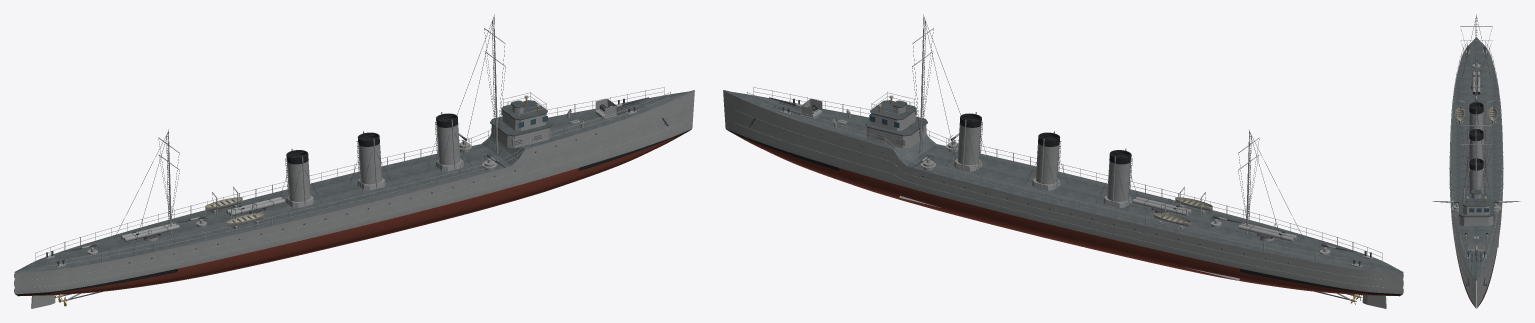
File: arabe.glb
3 views of the same model, side by side, from view 1: azimuth 30°, elevation 25°; view 2: azimuth 150°, elevation 25°; view 3: azimuth 270°, elevation 25° (orthographic). The views are drawn at different scales.
Visible parts, largest first — view 1: Arabe class; view 2: Arabe class; view 3: Arabe class.
Boxes of the visible parts, x1,y1,x2,y2 form: Arabe class: (14, 14, 694, 308); Arabe class: (723, 14, 1403, 308); Arabe class: (1432, 14, 1520, 308).
Bounding box in the file's own units: 83 × 21.39 × 12.12.
Materials: 9 (8 with a texture image).
